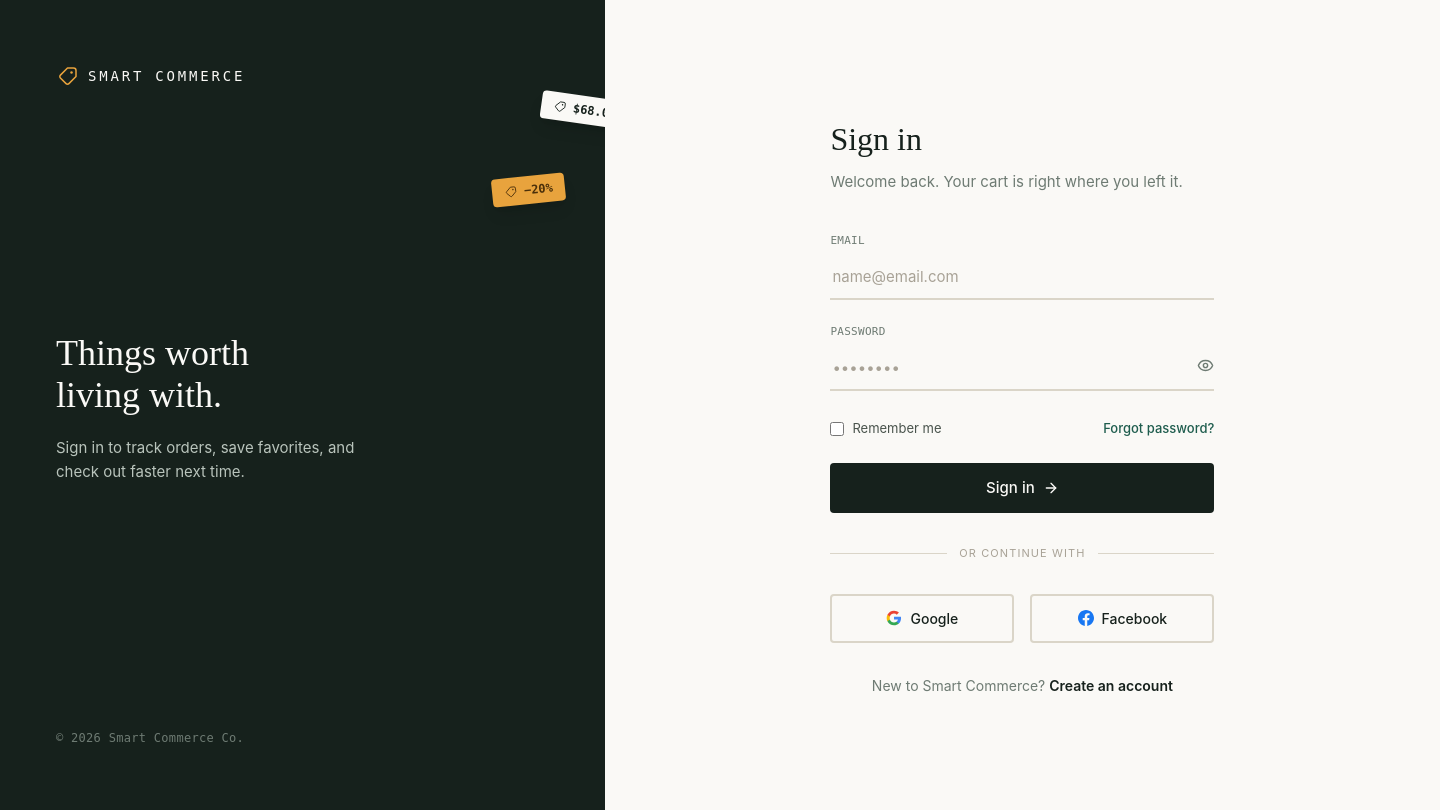
Test case: Auth Forms › LoginForm › validates required fields and shows validation messages
Step 1. Click the button "Sign in" → [1022, 488], box left=830, top=462, right=1214, bottom=513
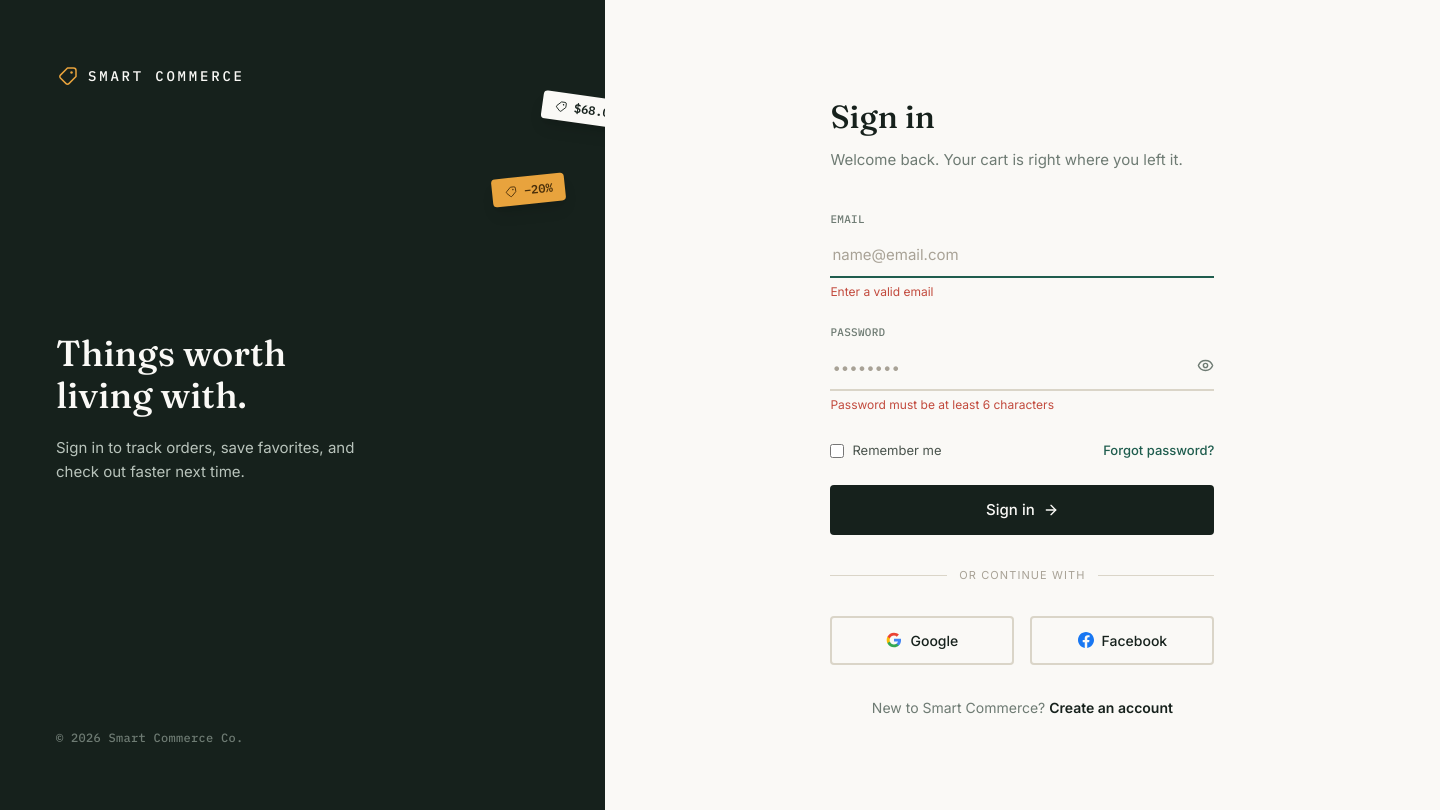
Expected: the text "Enter a valid email" is shown, left=830, top=284, right=934, bottom=299
